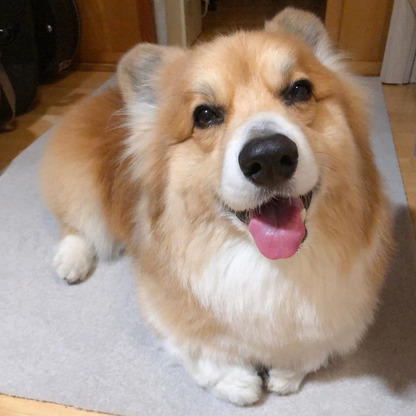Corgi: (35, 14, 395, 371)
